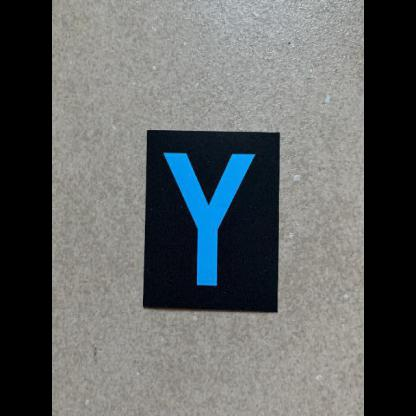y: (142, 129, 281, 316)
